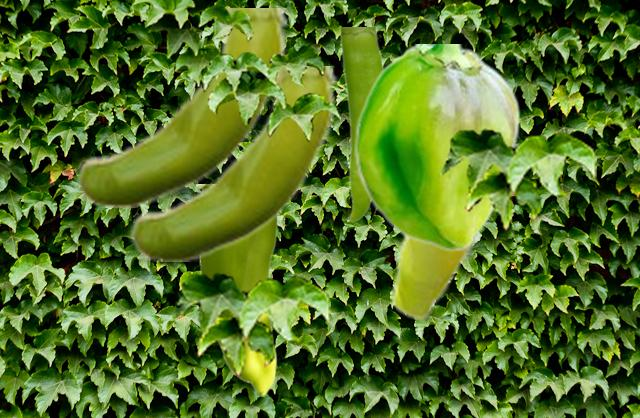green_chili: (74, 8, 288, 206), (128, 66, 337, 260), (354, 44, 520, 251), (194, 184, 276, 395), (338, 27, 383, 221), (390, 230, 483, 320)
